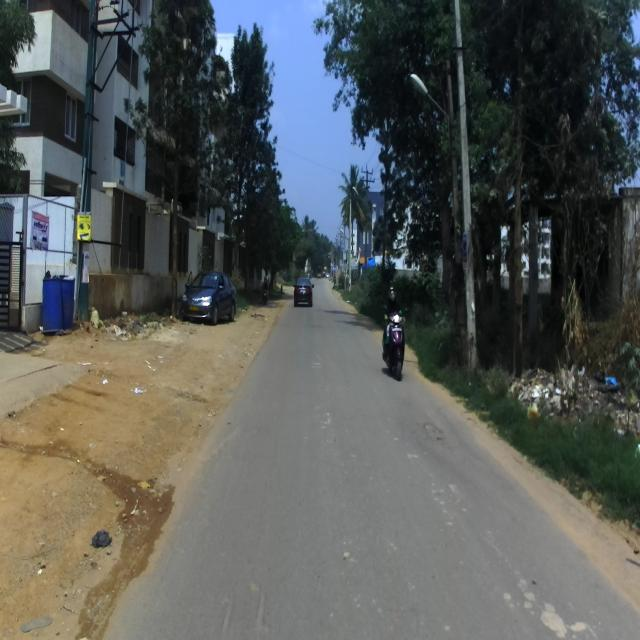car ahead at: (184, 269, 241, 326)
electric pole ahead at: (71, 0, 141, 330)
motorcycle ahead at: (379, 283, 413, 377)
